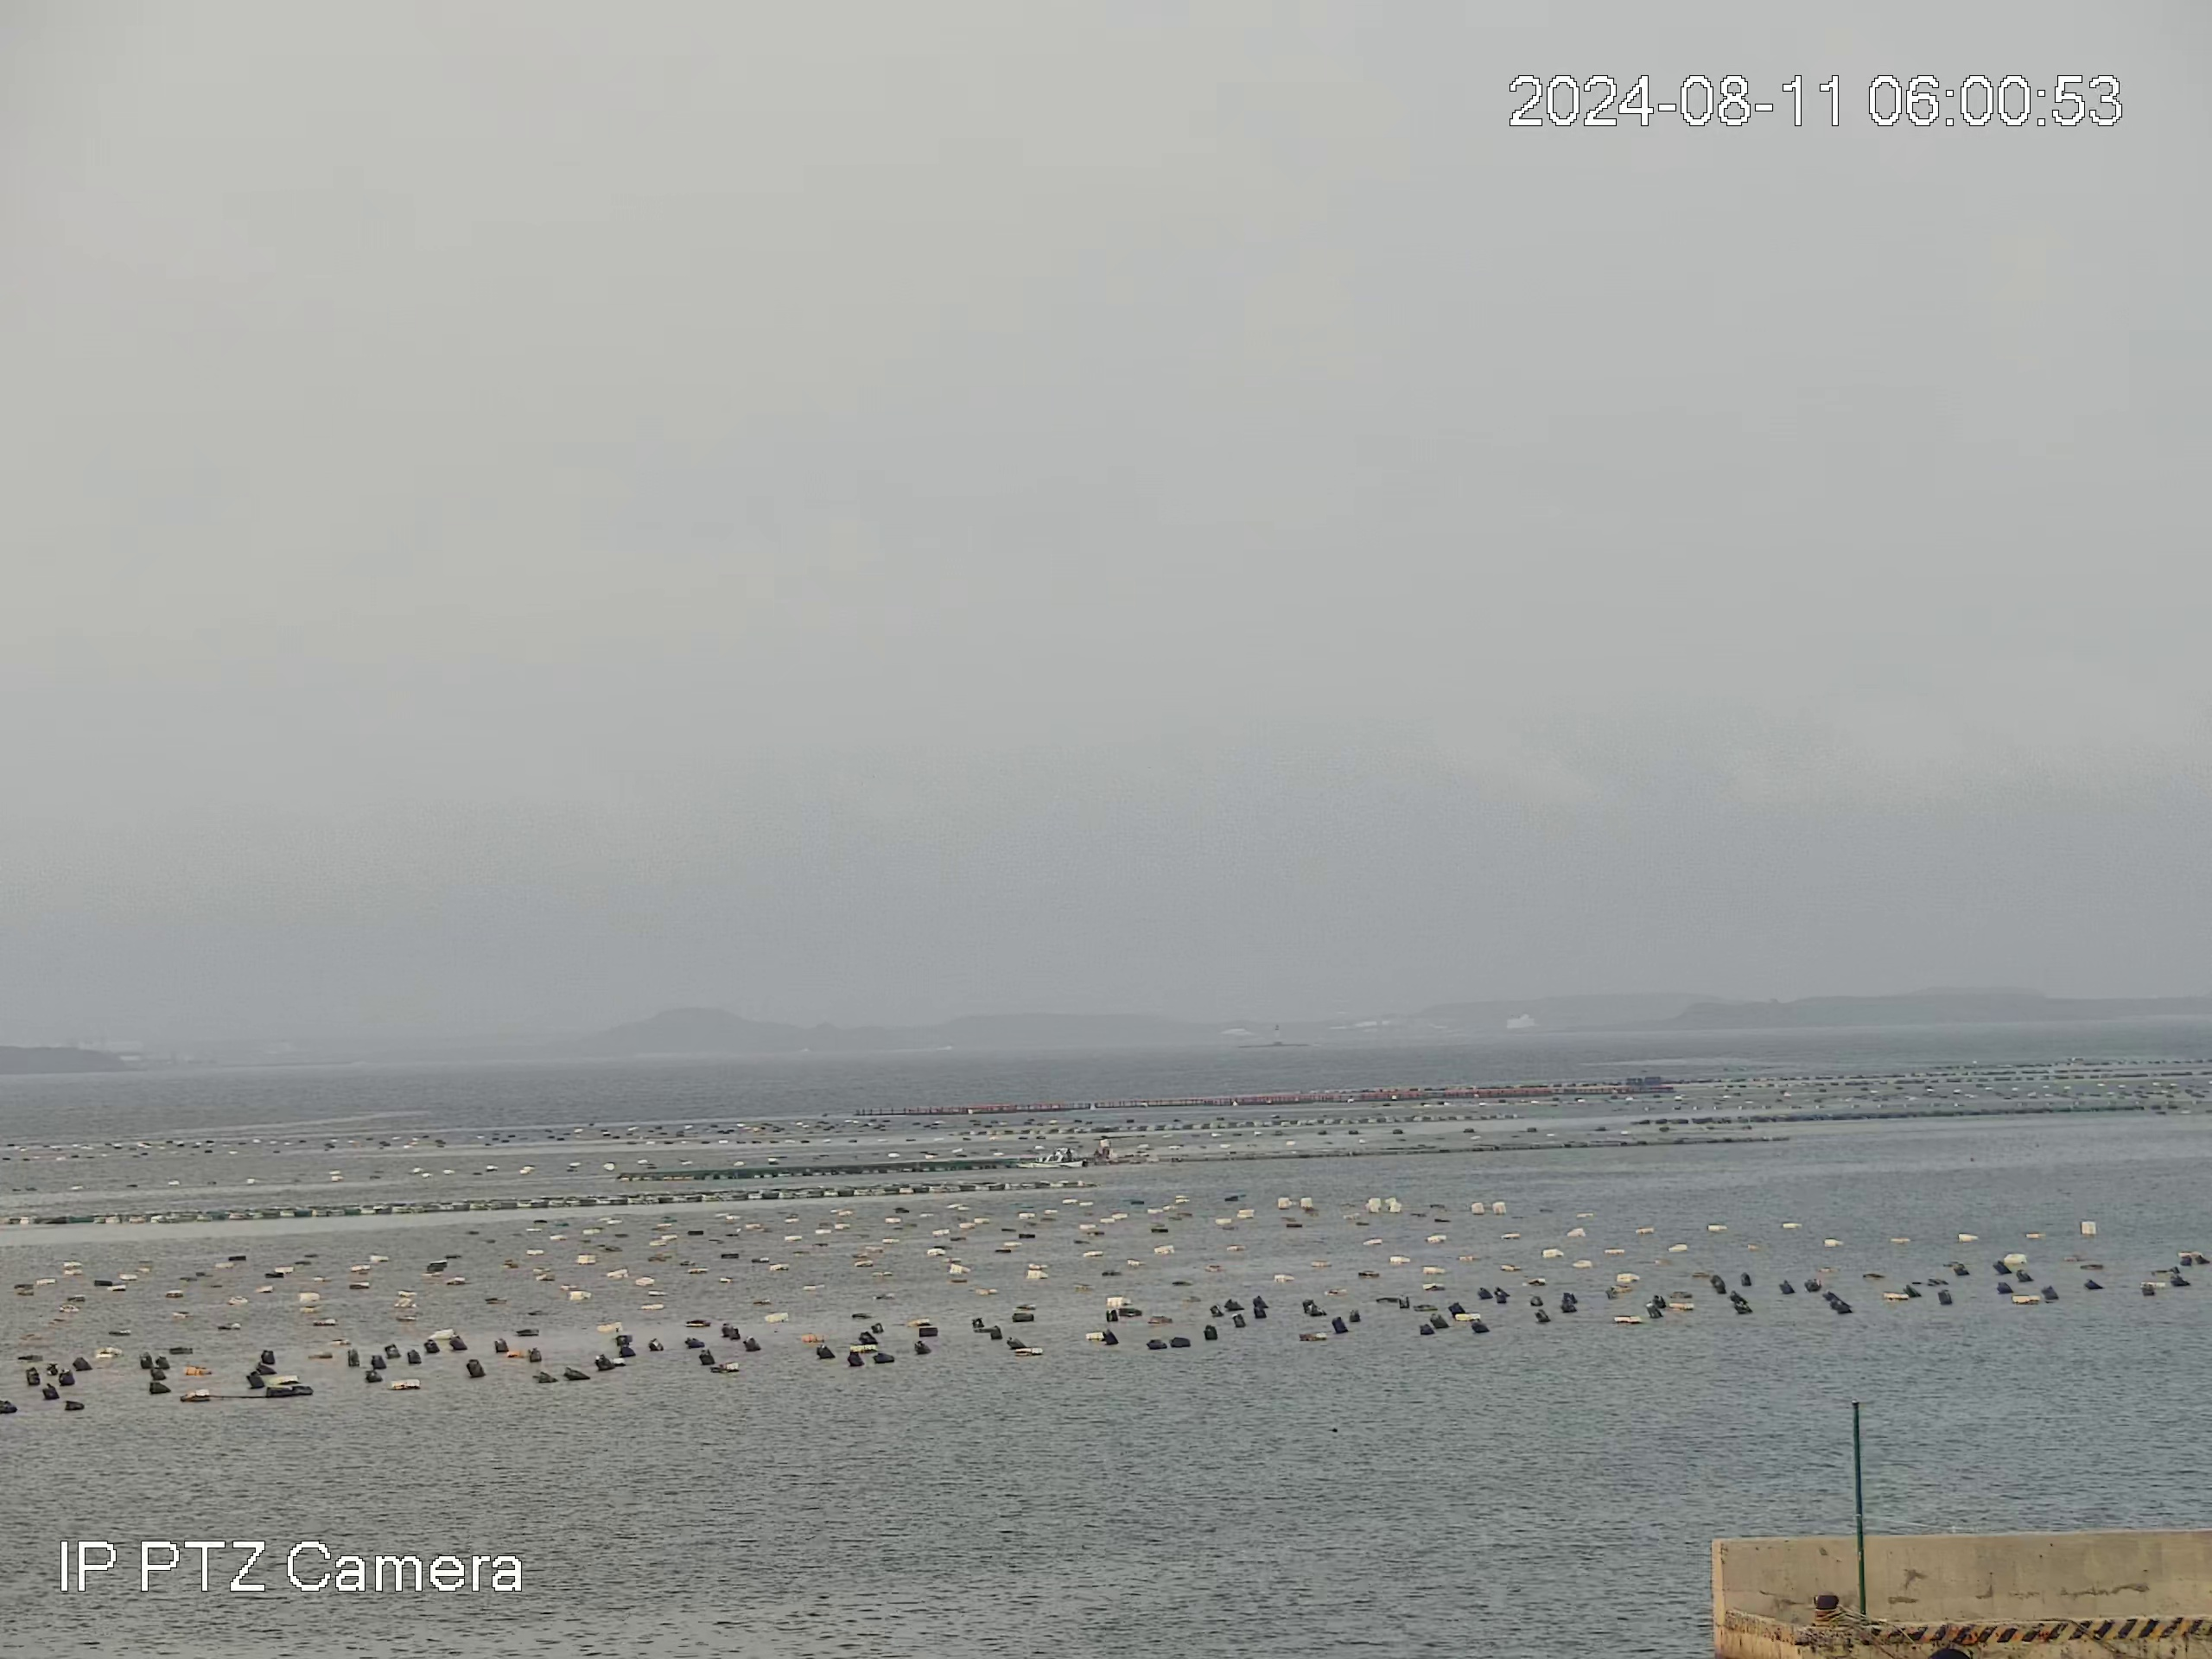boat: (1014, 1145, 1089, 1169)
